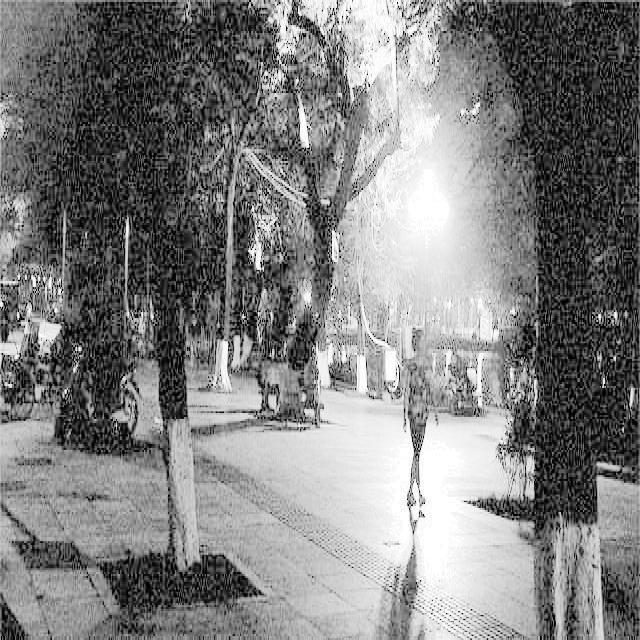Motorcycle: (50, 330, 157, 462), (0, 294, 49, 436)
Person: (402, 306, 441, 500)
